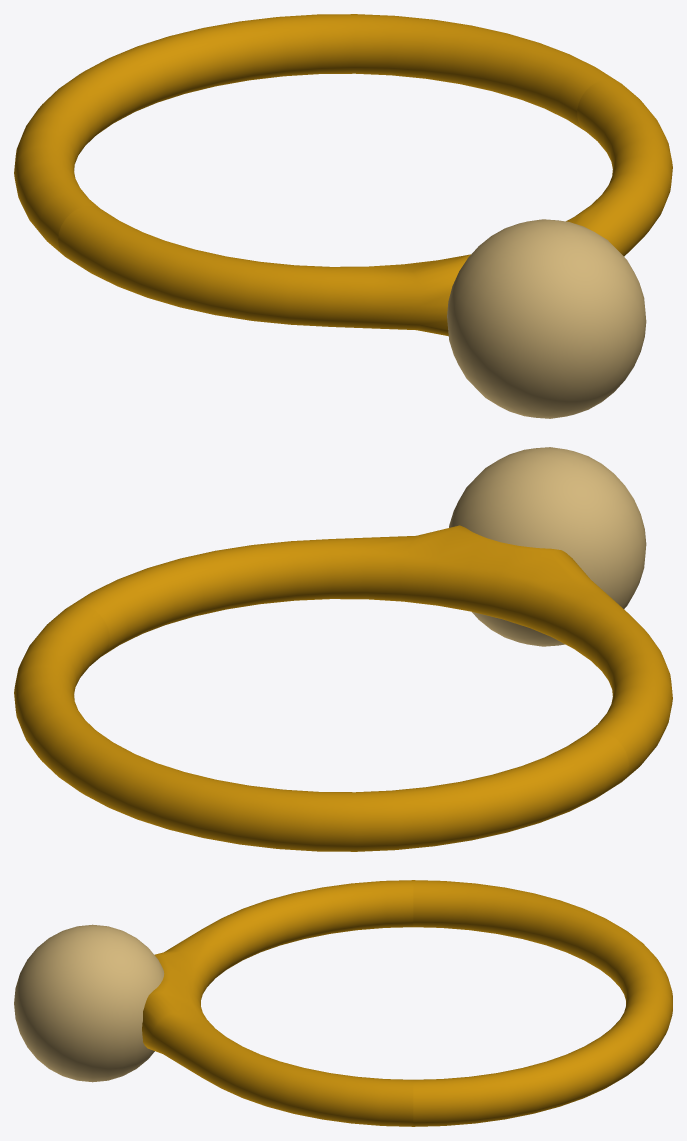
Rendered from GoldPearlRing_joined.obj.
3 renders of one model, top to bottom at view 1: azimuth 30°, elevation 25°; view 2: azimuth 150°, elevation 25°; view 3: azimuth 270°, elevation 25°, orthographic. The views are drawn at different scales.
Parts seen in each view (by area): view 1: GoldRingWithPearl_Ring; view 2: GoldRingWithPearl_Ring; view 3: GoldRingWithPearl_Ring.
Part boxes in pixels (x1,y1,x2,y2): GoldRingWithPearl_Ring: [14, 14, 672, 418]; GoldRingWithPearl_Ring: [14, 447, 672, 851]; GoldRingWithPearl_Ring: [14, 880, 672, 1126].
Size of the model in its own units: 0.66 by 0.2 by 0.8362.
